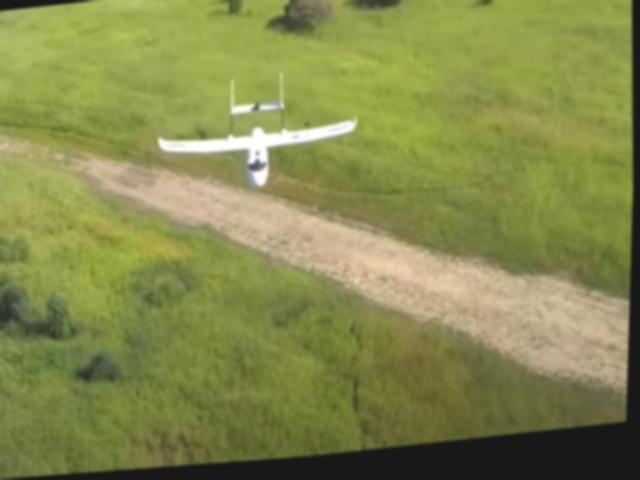iha: (156, 70, 360, 197)
